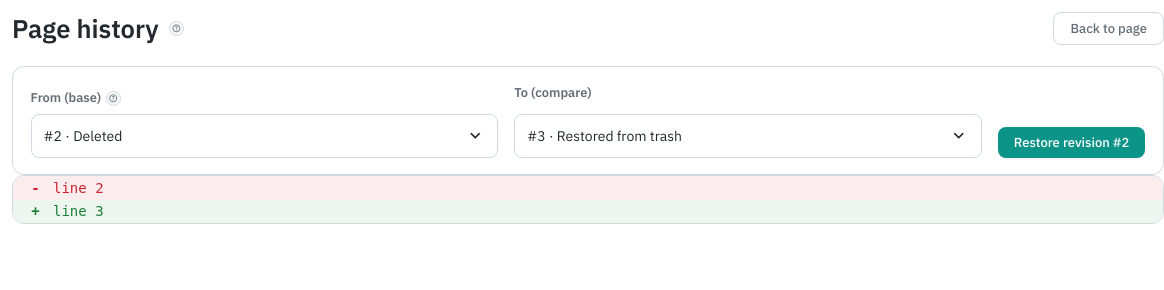
Scenario: PageHistory › keeps selection and offers reload on restore conflict
Click the button "Restore revision #2": (1072, 143) top-left (998, 127), bottom-right (1145, 158)
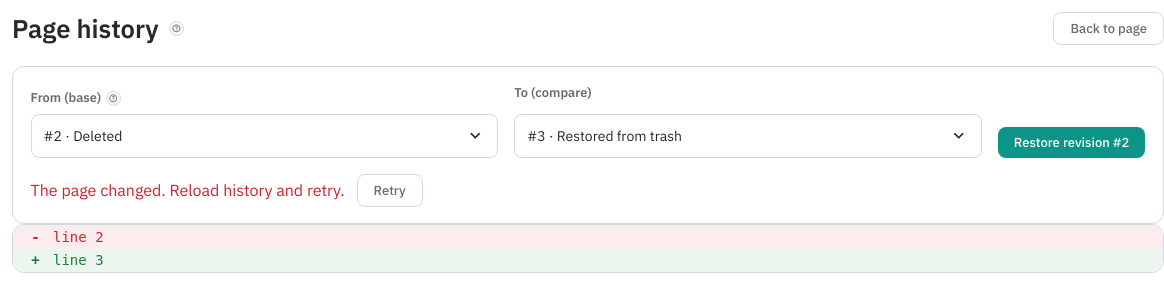
Expected: the element with class "app-select" shows "#2", top-left (44, 127), bottom-right (122, 145)
Expected: the text "The page changed" is shown, top-left (31, 180), bottom-right (345, 200)
